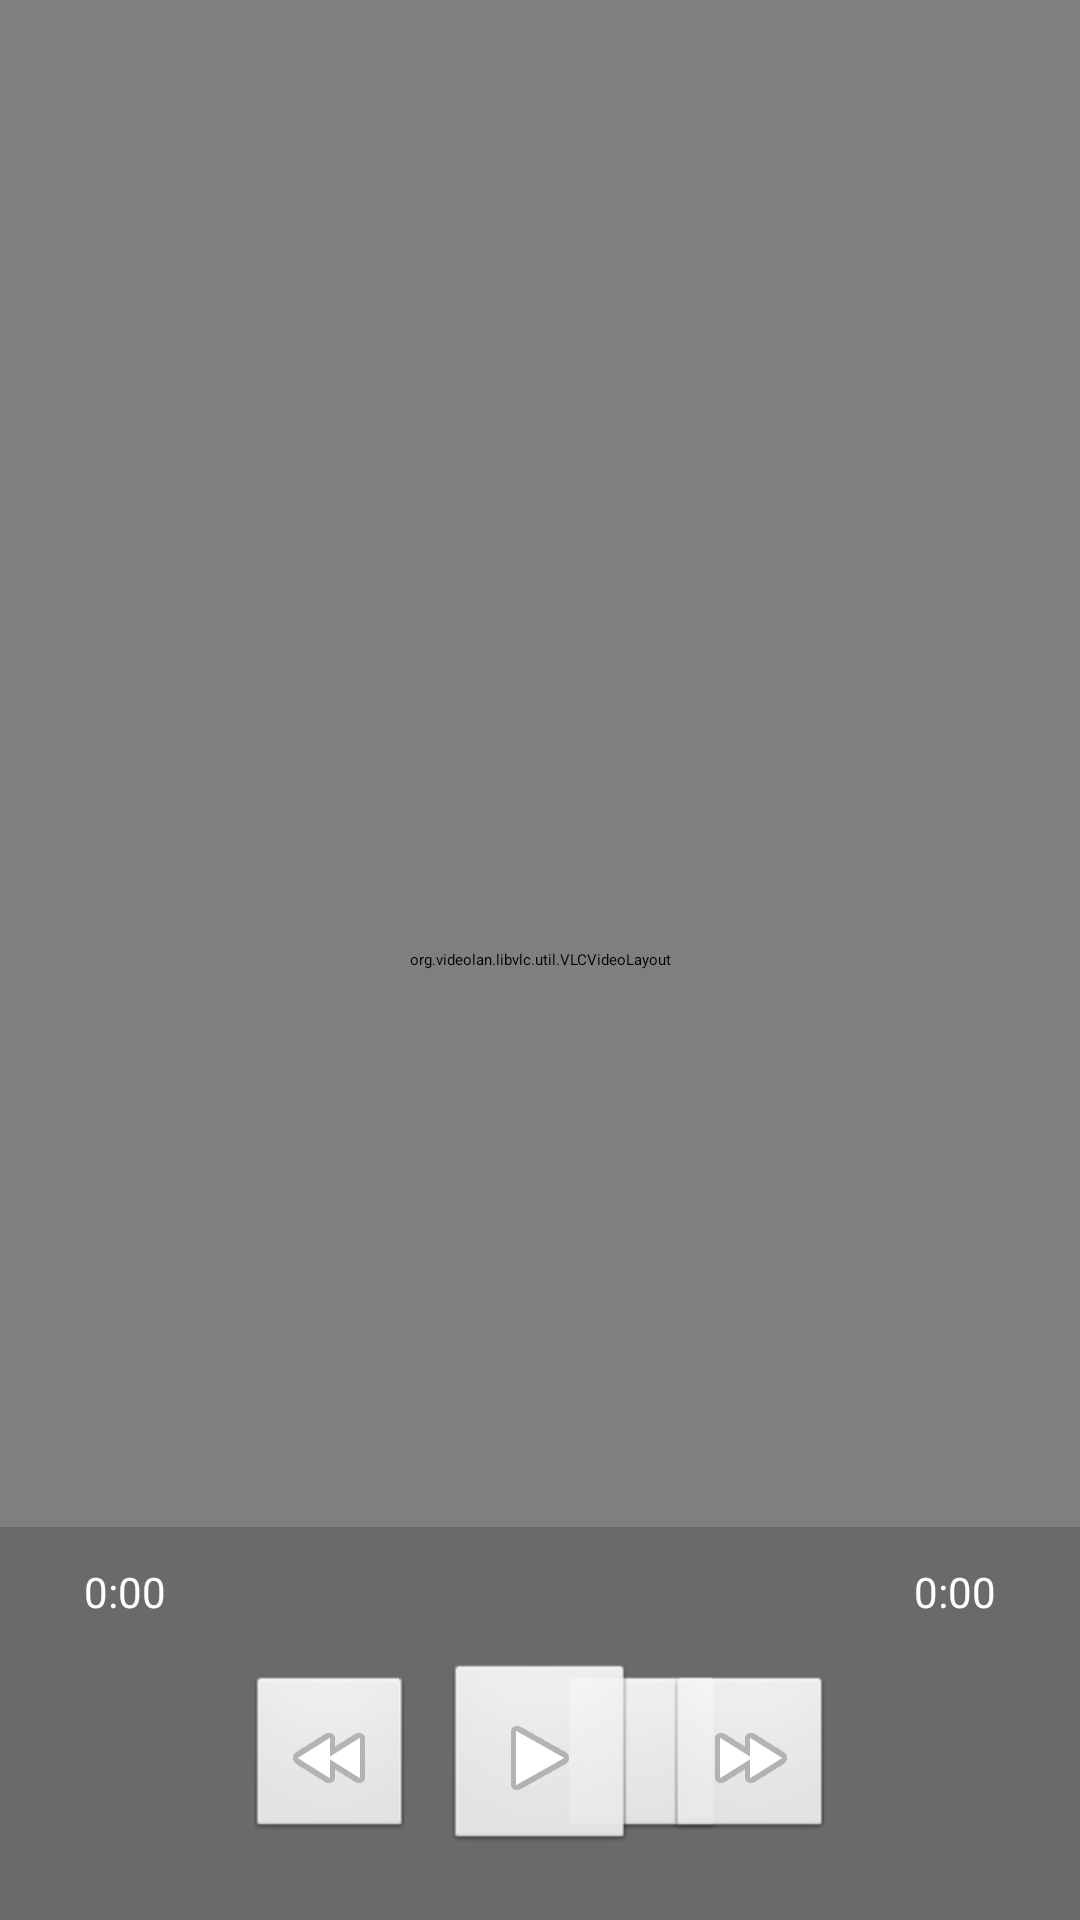

Named icons in this screenshot (1080x1920) and their bounding boxes, box(x1, y1, x2, y2):
Back 10s: box(257, 1677, 402, 1827)
Forward 10s: box(666, 1677, 822, 1828)
Play/Pause: box(455, 1665, 636, 1839)
